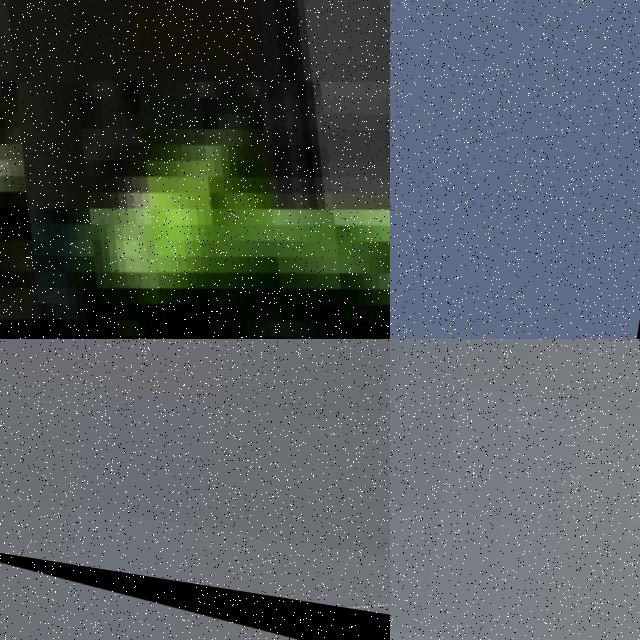drone: (0, 0, 390, 339), (0, 538, 390, 640)
